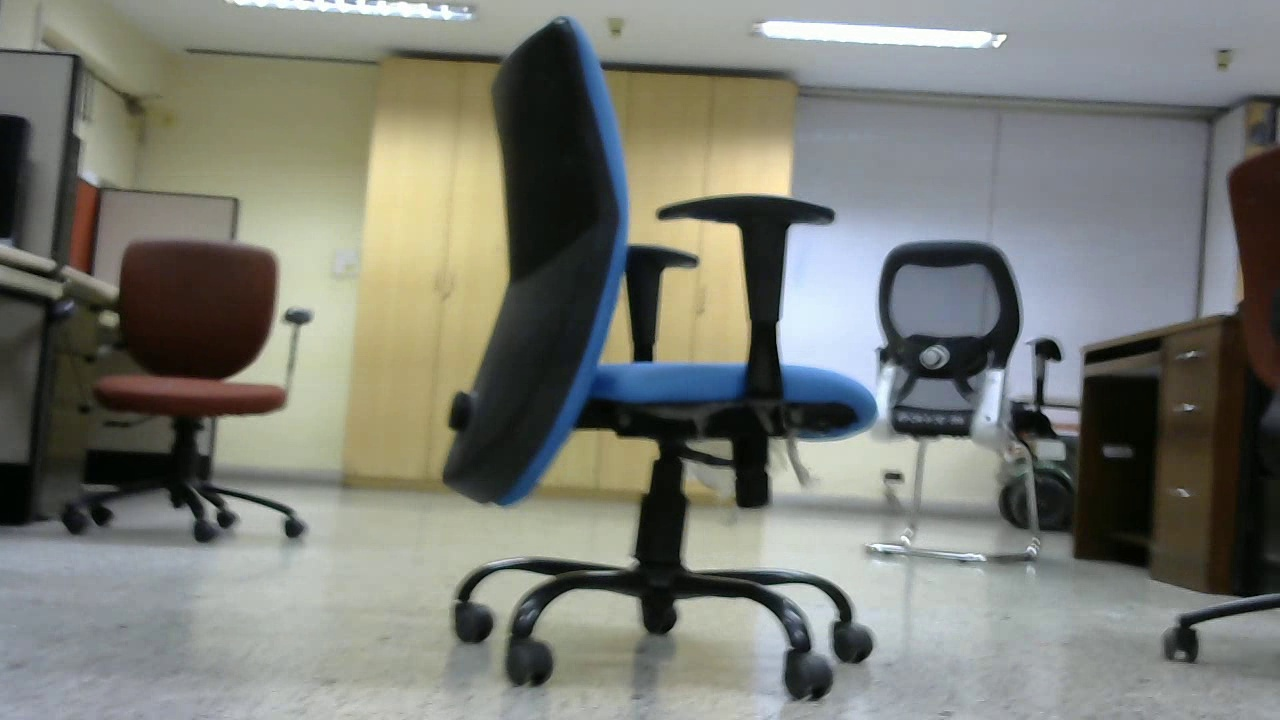chair: (456, 13, 884, 701), (64, 235, 311, 545), (859, 241, 1051, 564)
